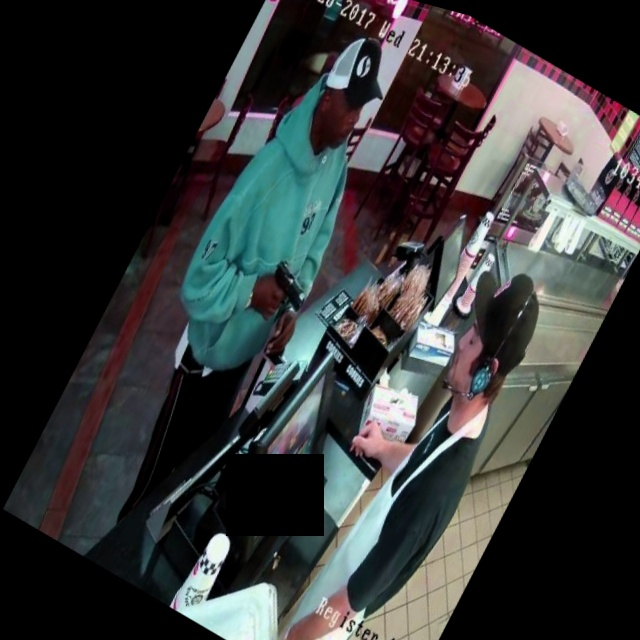gun: (236, 235, 333, 346)
